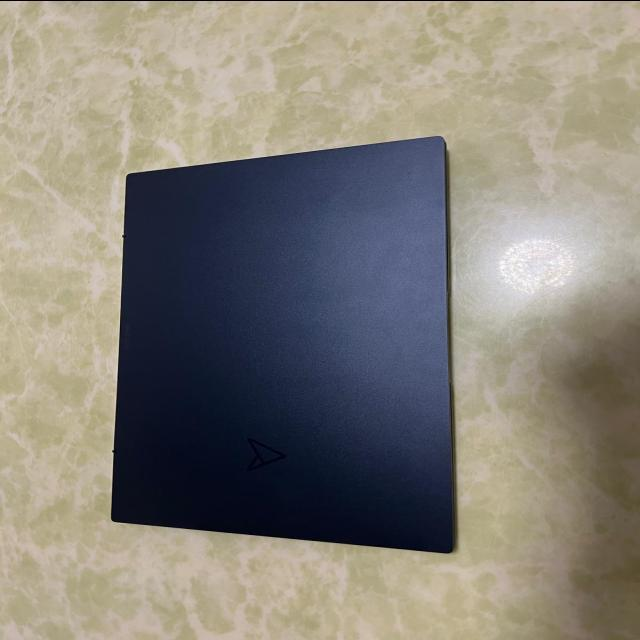laptop: (110, 134, 457, 553)
